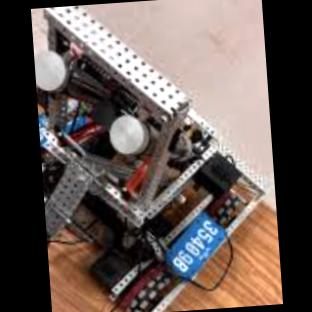Robot: (33, 5, 262, 312)
